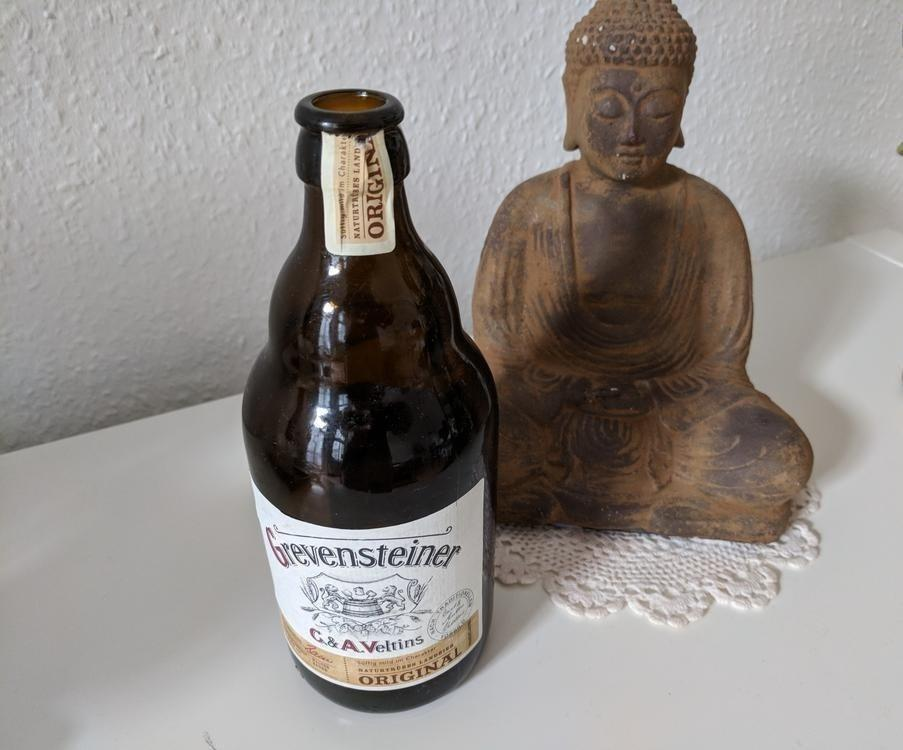bottle-glass: (238, 86, 504, 716)
